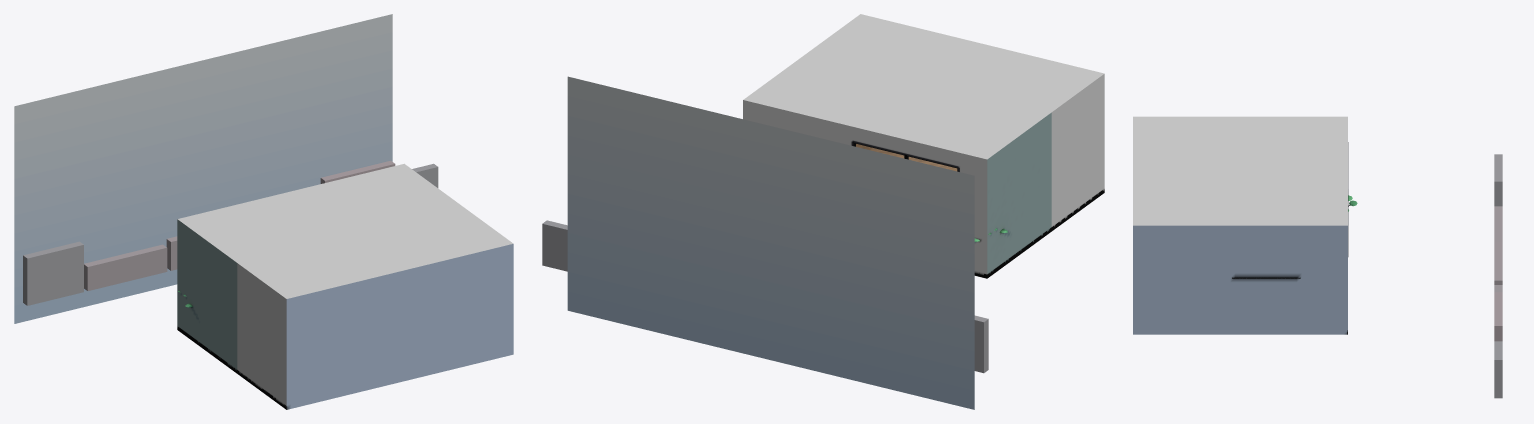
The model's file is apartment.glb.
The picture shows the model from 3 angles, left to right: view 1: azimuth 30°, elevation 25°; view 2: azimuth 150°, elevation 25°; view 3: azimuth 270°, elevation 25°; orthographic projection. The views are drawn at different scales.
Visible parts, largest first — view 1: APT_outside, APT_wall_rear, APT_ceiling, APT_wall_left; view 2: APT_outside, APT_ceiling, APT_wall_left, APT_wall_back, APT_trim; view 3: APT_ceiling, APT_wall_rear, APT_outside.
Part boxes in pixels (<box>): APT_outside: <box>14,14,438,323</box>; APT_wall_rear: <box>286,244,513,409</box>; APT_ceiling: <box>177,163,513,298</box>; APT_wall_left: <box>177,219,286,408</box>; APT_outside: <box>542,76,988,409</box>; APT_ceiling: <box>743,14,1104,159</box>; APT_wall_left: <box>987,74,1104,275</box>; APT_wall_back: <box>743,100,987,277</box>; APT_trim: <box>851,140,1104,278</box>; APT_ceiling: <box>1133,116,1347,225</box>; APT_wall_rear: <box>1133,225,1347,334</box>; APT_outside: <box>1494,154,1502,398</box>.
Size of the model in its own units: 10.86 by 5.5 by 9.
